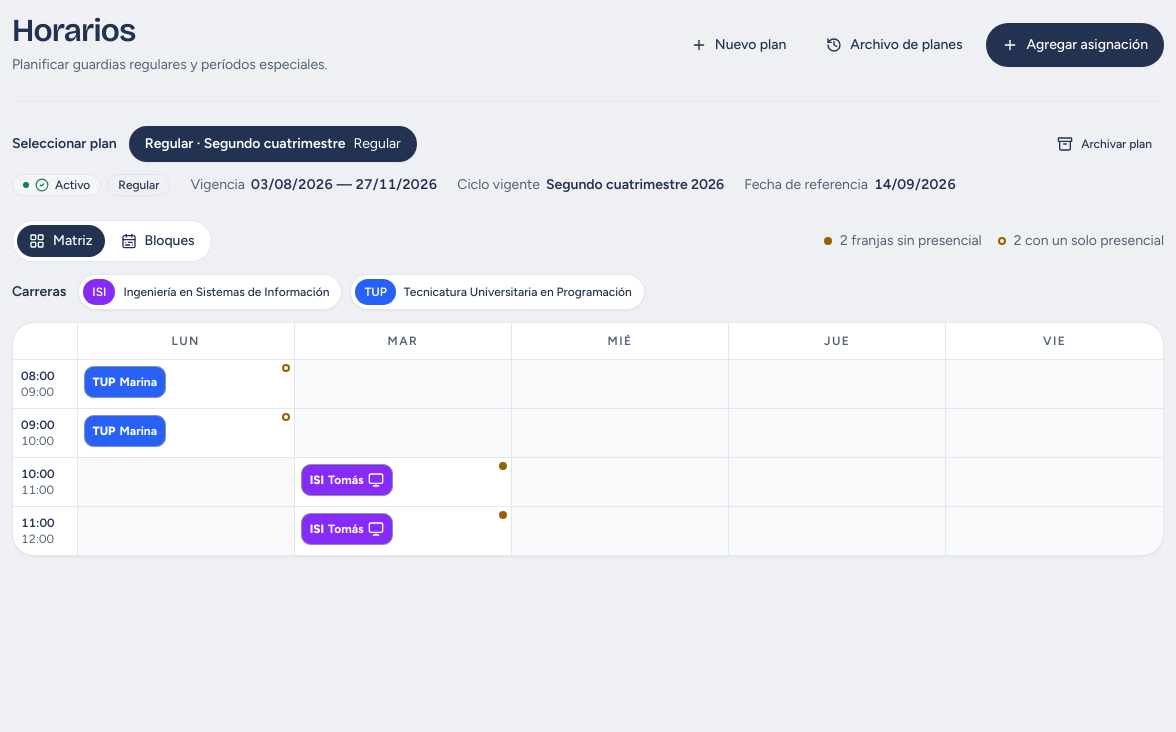
Scenario: SchedulesScreen › filters both views by career while coverage keeps counting every assignment
Check: the button "Mostrar todas" is not shown
What coordinates should you click on to do the following:
click the button "ISI Ingeniería en Sistemas de Información"
I would click on:
 (210, 292)
Its box is [78,274,342,310].
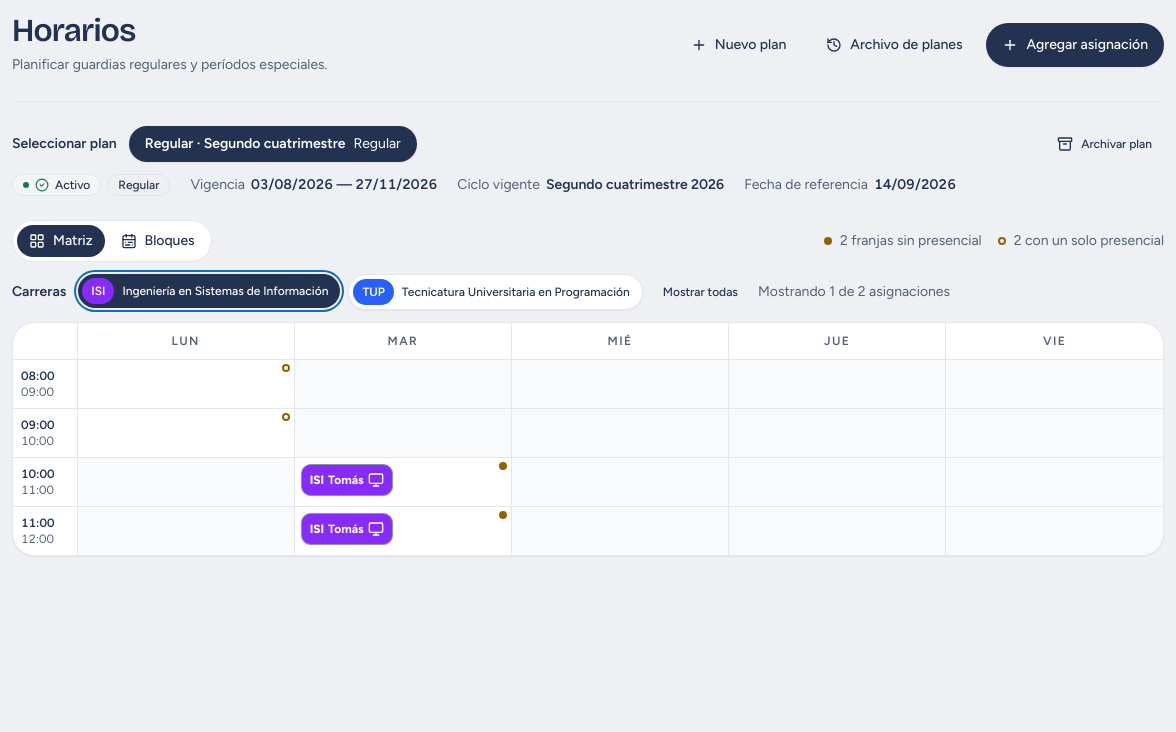
Check: the number of buttons named "Acosta, Tomás, Ingeniería en Sistemas de Información, martes, 10:00 a 12:00, Virtual" is 2, box [301,464,393,496]; [301,513,393,545]
Check: the message reads "Mostrando 1 de 2 asignaciones", box [758,283,950,300]
What coordinates should you click on to do the following:
click the radio button labelled "Bloques"
I would click on:
 (158, 241)
Its box is [109,225,207,257].
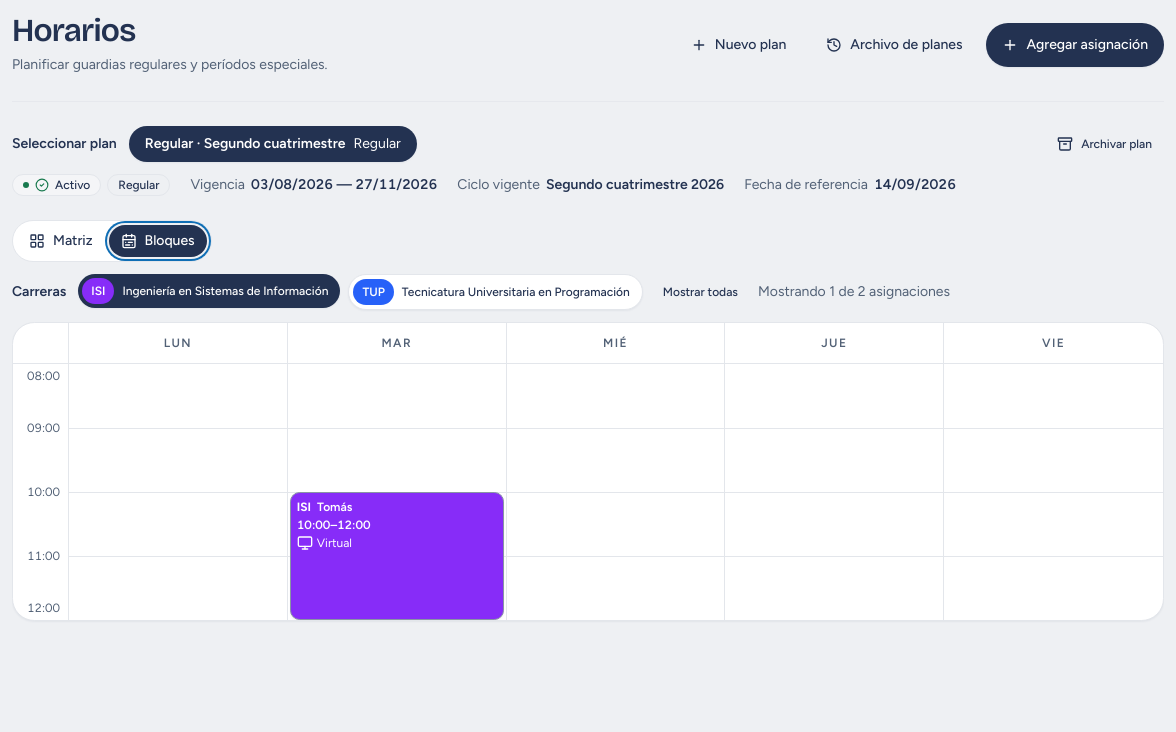
What coordinates should you click on to do the following:
click the button "Mostrar todas"
I would click on:
 (700, 292)
Its box is [651,276,750,308].
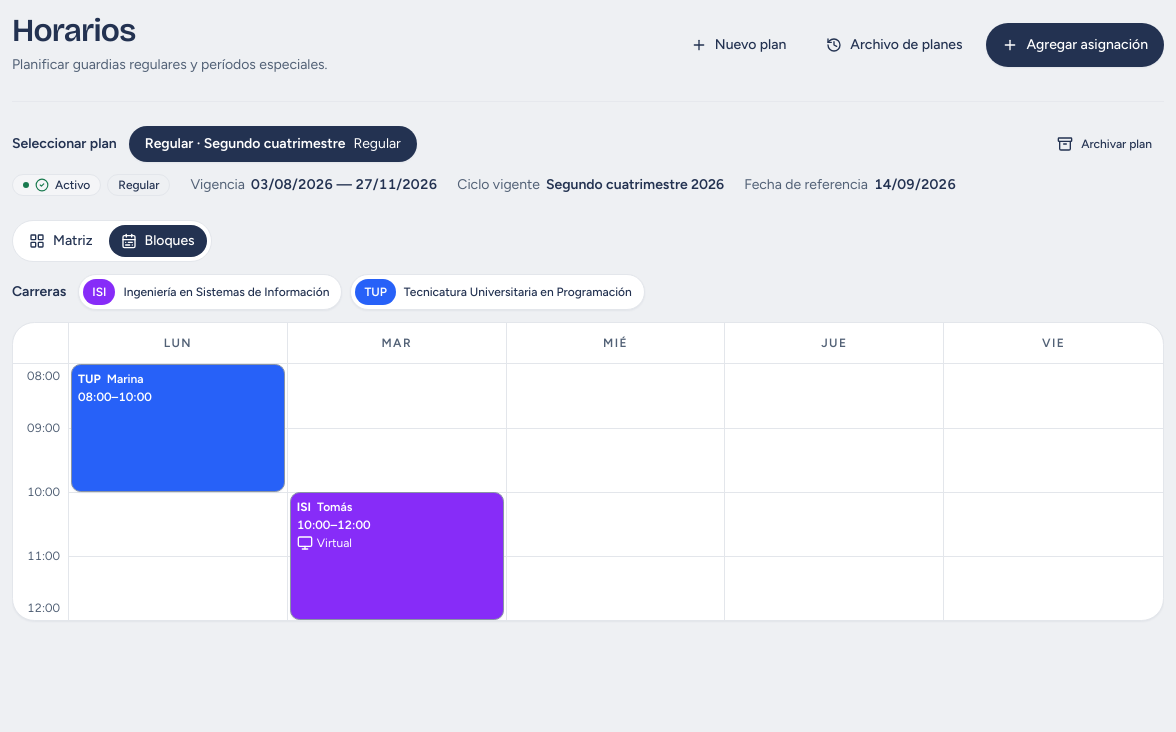
Check: the button named "Benítez, Marina, Tecnicatura Universitaria en Programación, lunes, 08:00 a 10:00" is shown, box [71,364,285,492]
